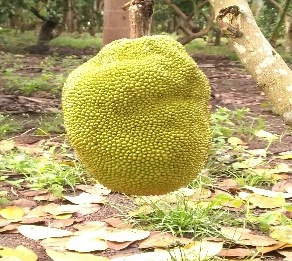Mit: (65, 36, 214, 187)
